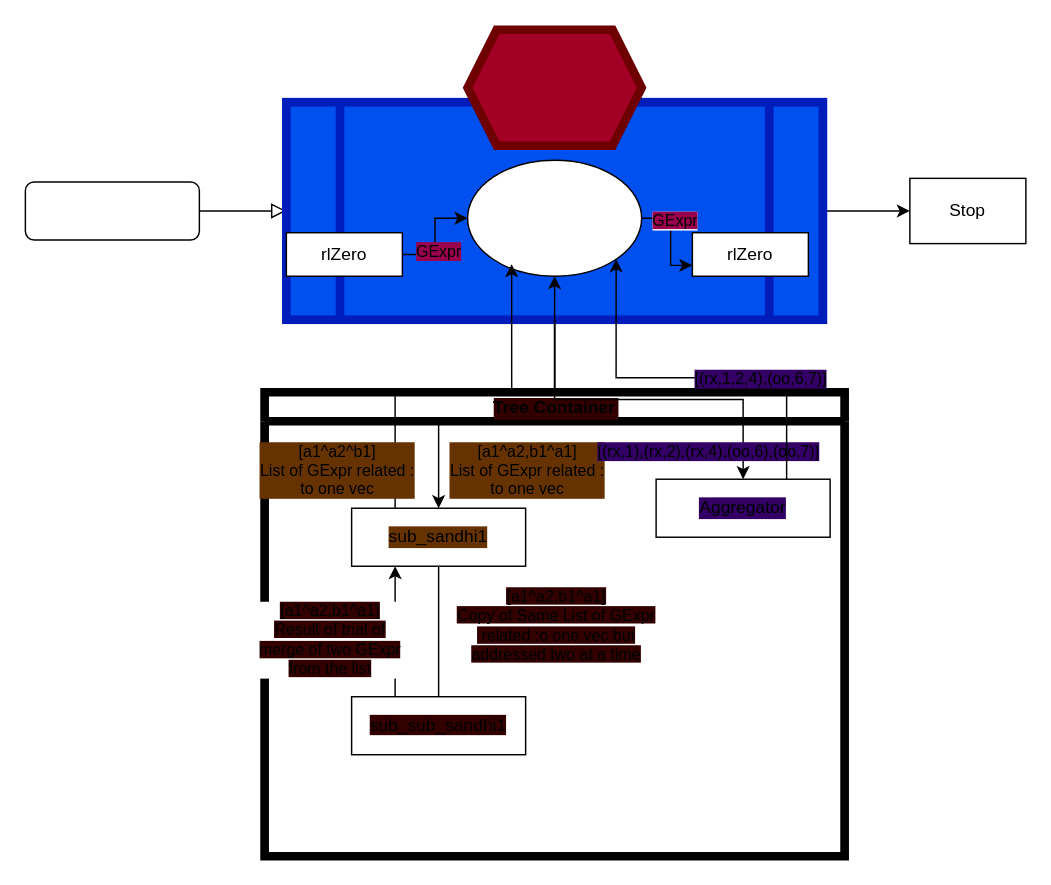
The diagram is 1051 pixels wide and 885 high, and some of its shapes have lost their labels. The centre of each missing label's shape, as x and y in pixels:
"SANDHI RECURSIVE BOTTOM_UP" goes at [554,87].
"SANDHI1" goes at [554,217].
"Start" goes at [111,210].
